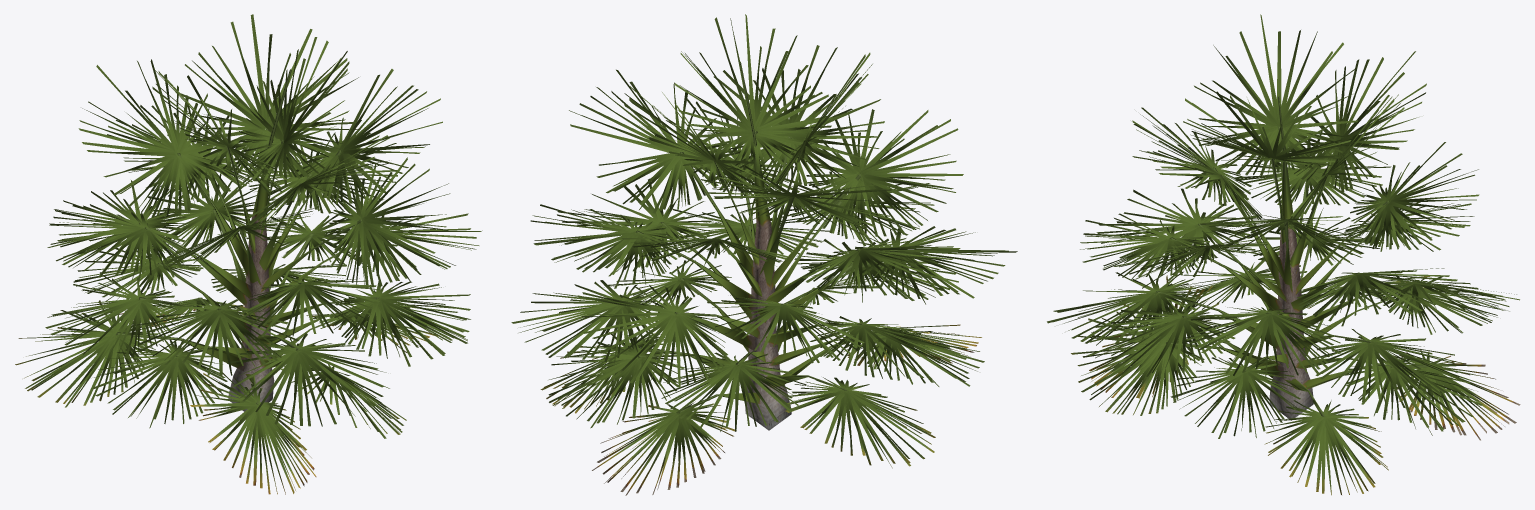
The model's file is Washingtonia filifera HD_Curved mat 0_LOD3.fbx.
3 renders of one model, left to right at view 1: azimuth 30°, elevation 25°; view 2: azimuth 150°, elevation 25°; view 3: azimuth 270°, elevation 25°, orthographic. The views are drawn at different scales.
Parts seen in each view (by area): view 1: Washingtonia_filifera_HD; view 2: Washingtonia_filifera_HD; view 3: Washingtonia_filifera_HD.
Part boxes in pixels (box(x1,y1,x2,y2)): Washingtonia_filifera_HD: box(15, 14, 482, 494); Washingtonia_filifera_HD: box(511, 14, 1017, 495); Washingtonia_filifera_HD: box(1047, 14, 1520, 495).
Bounding box in the file's own units: 4.08 × 3.5 × 4.18.
Materials: 6 (6 with a texture image).
